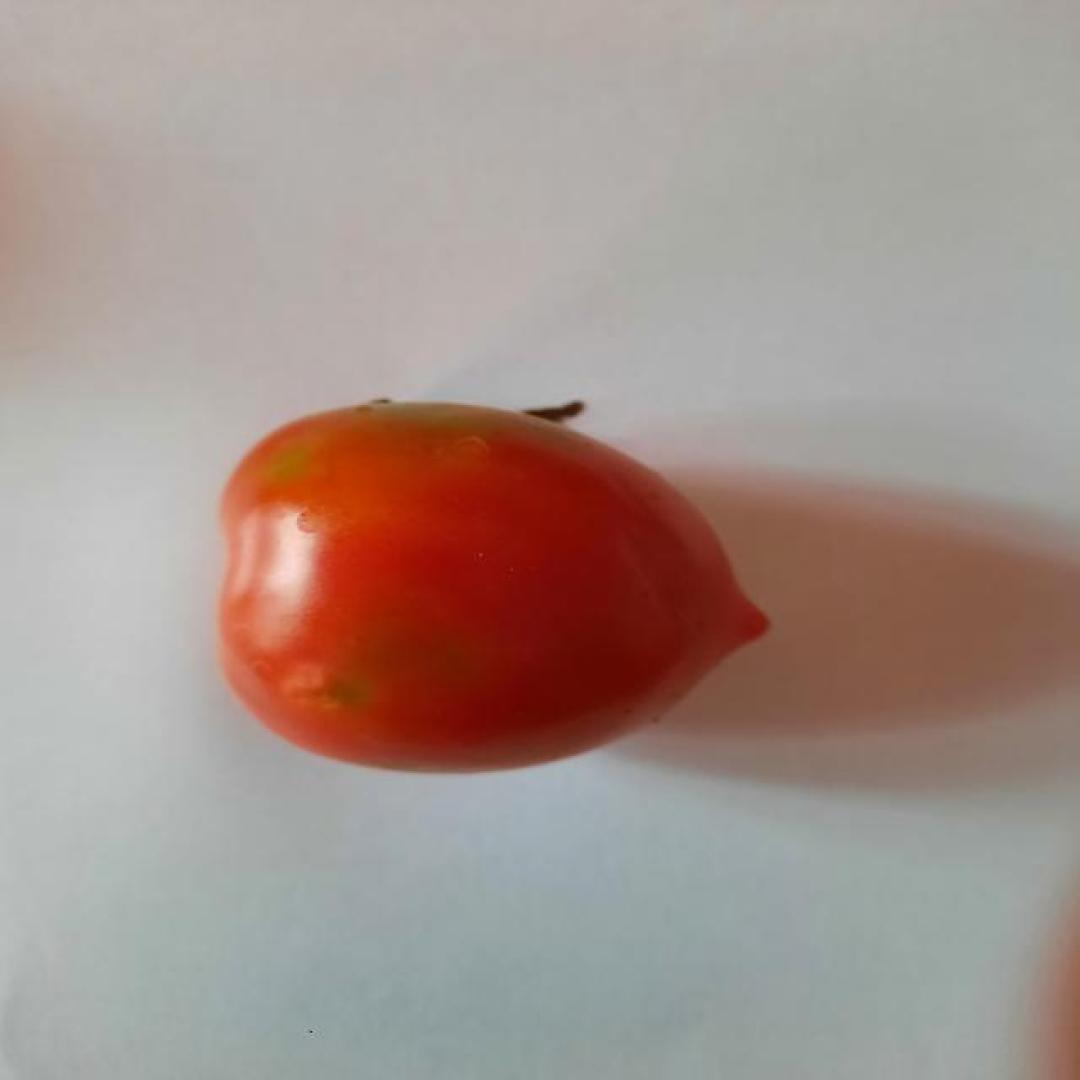matang: (211, 397, 773, 776)
